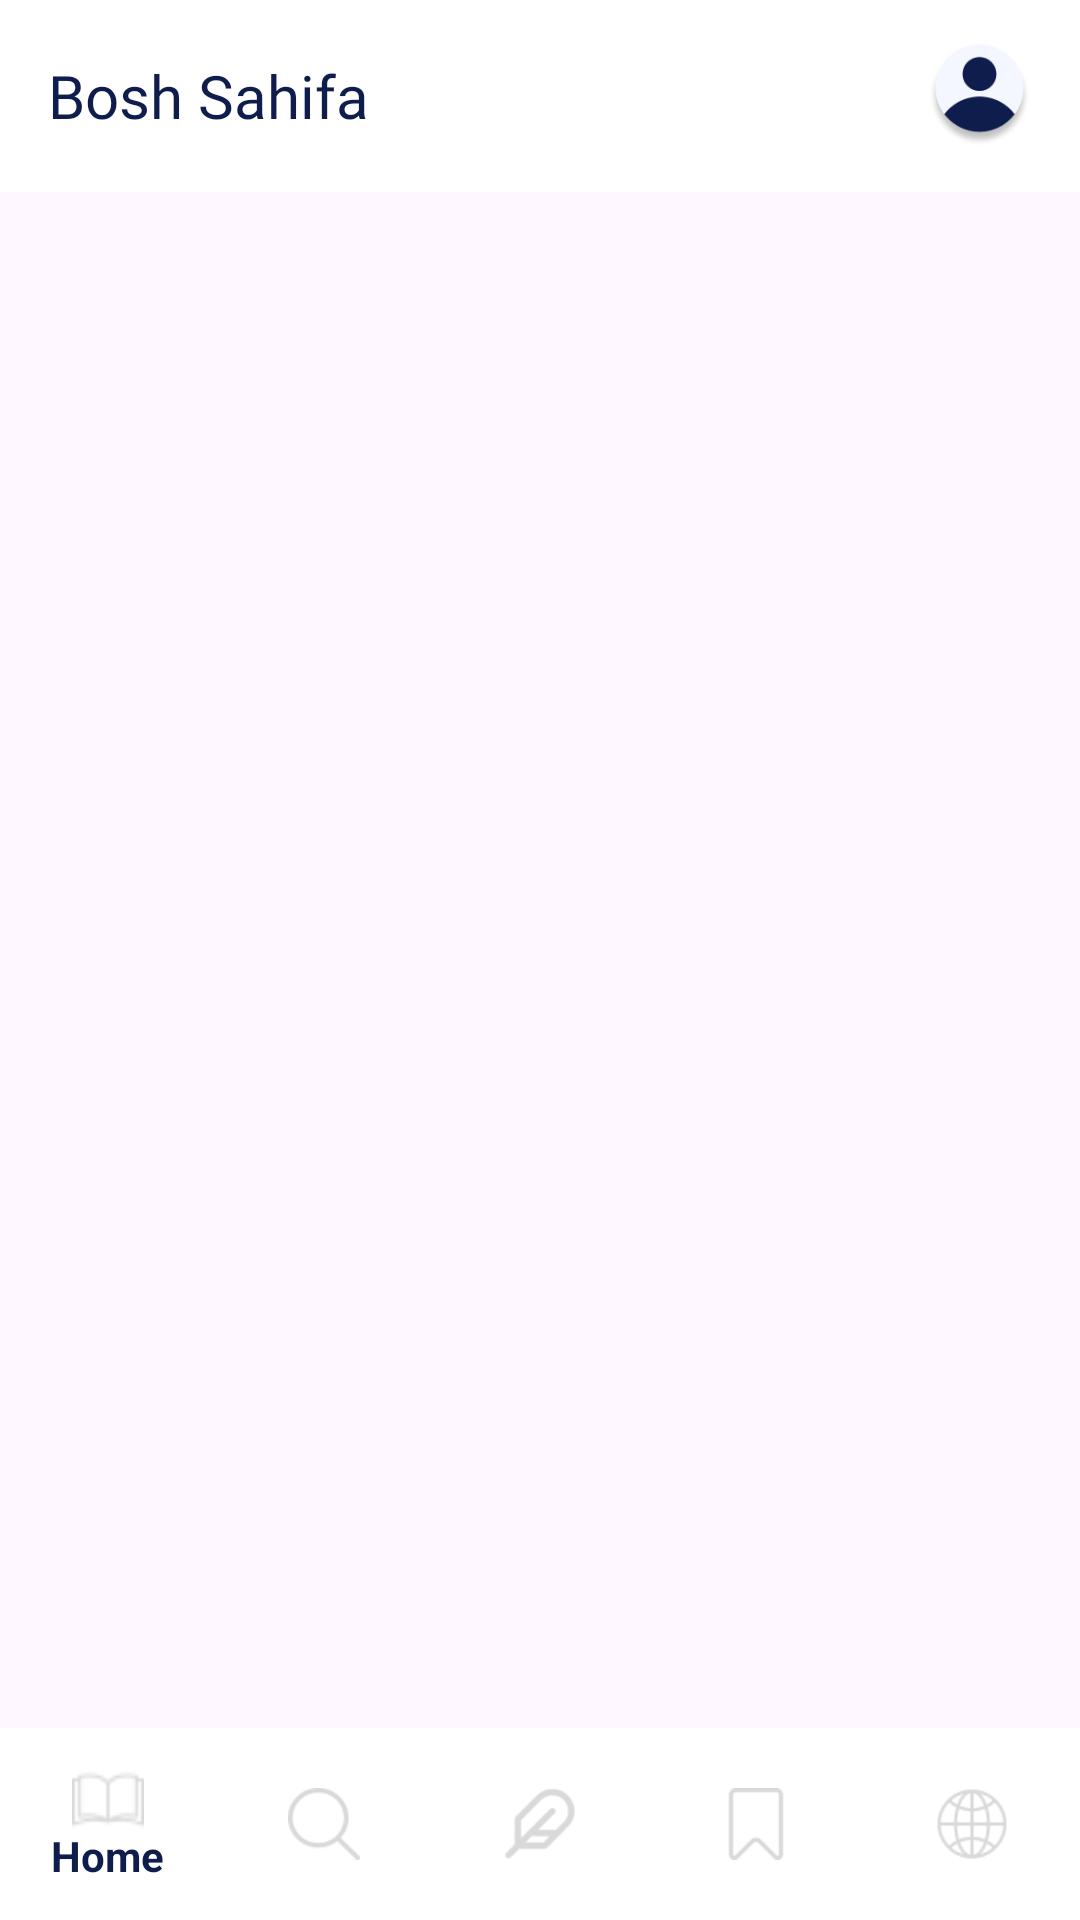

Icon click points for this 1080w x 1920h phone screenshot, format point (x, y):
user: point (979, 94)
